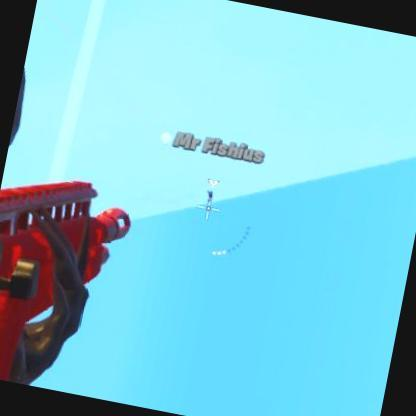person: (202, 184, 219, 214)
